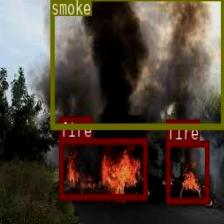fire: (58, 138, 147, 198), (166, 140, 208, 202)
smoke: (50, 0, 224, 129)
